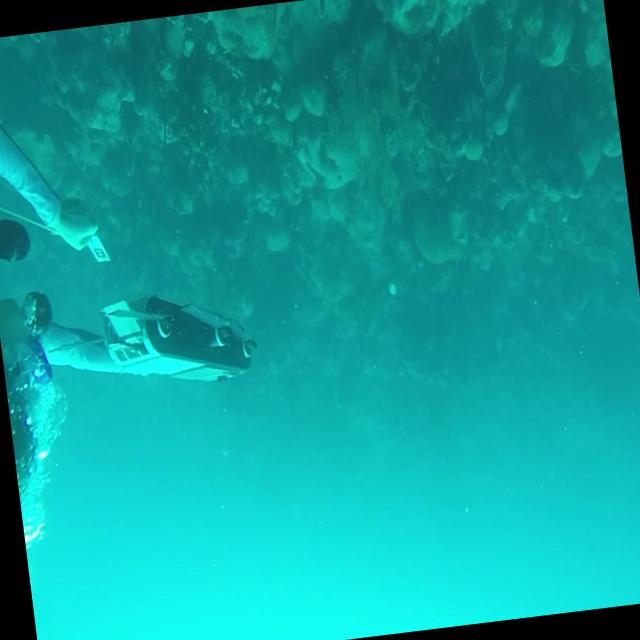human: (0, 33, 159, 536)
